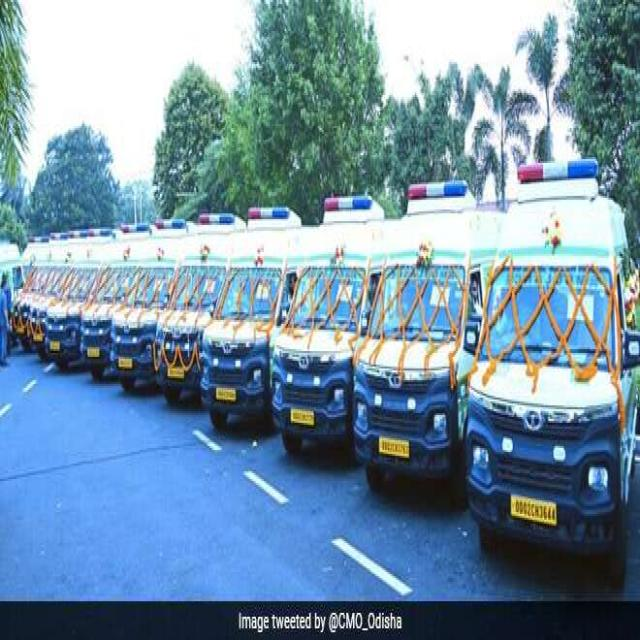emergency: (466, 160, 640, 575), (354, 182, 500, 504), (271, 198, 391, 456), (201, 208, 301, 426), (154, 212, 245, 402), (110, 222, 186, 389)
